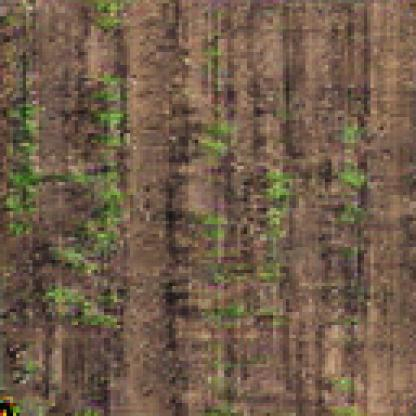sorghum_plant: (188, 113, 239, 415), (82, 71, 131, 344), (334, 118, 372, 416), (0, 82, 49, 251), (255, 158, 295, 323), (79, 0, 131, 36)
